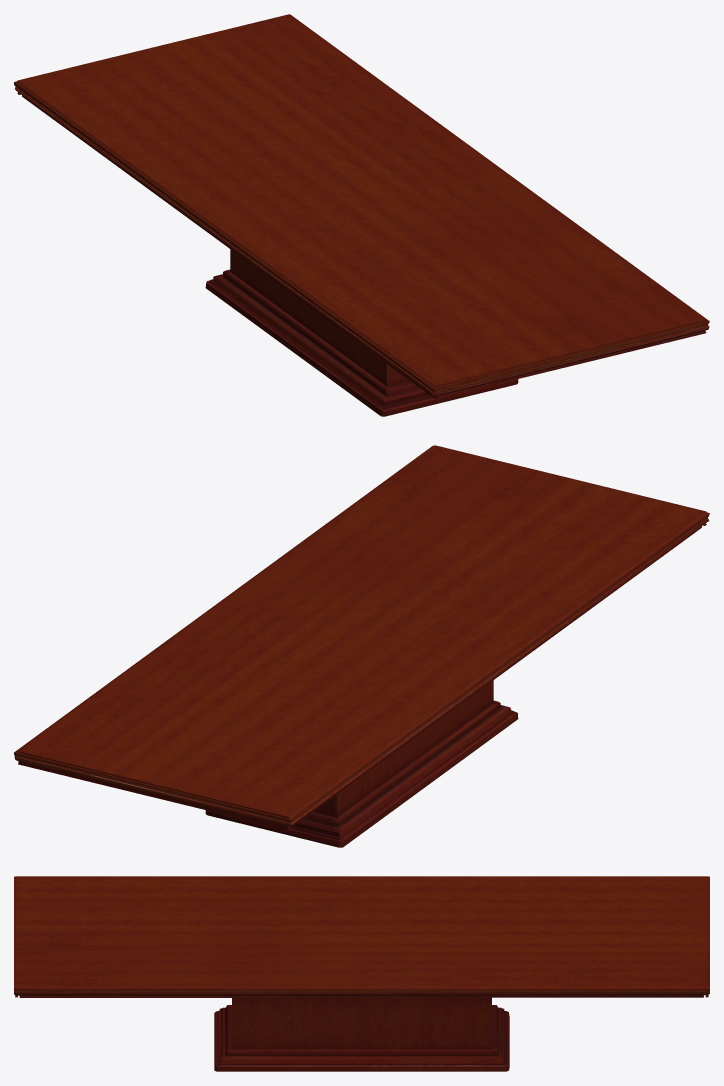
File: WoodenTable.fbx
3 renders of one model, top to bottom at view 1: azimuth 30°, elevation 25°; view 2: azimuth 150°, elevation 25°; view 3: azimuth 270°, elevation 25°, orthographic. The views are drawn at different scales.
Parts seen in each view (by area): view 1: tripo_node_fec6308d; view 2: tripo_node_fec6308d; view 3: tripo_node_fec6308d.
Part boxes in pixels (box(x1,y1,x2,y2)): tripo_node_fec6308d: box(14, 14, 709, 416); tripo_node_fec6308d: box(14, 445, 709, 847); tripo_node_fec6308d: box(14, 876, 709, 1071).
Size of the model in its own units: 0.381 by 0.1778 by 0.9982.
